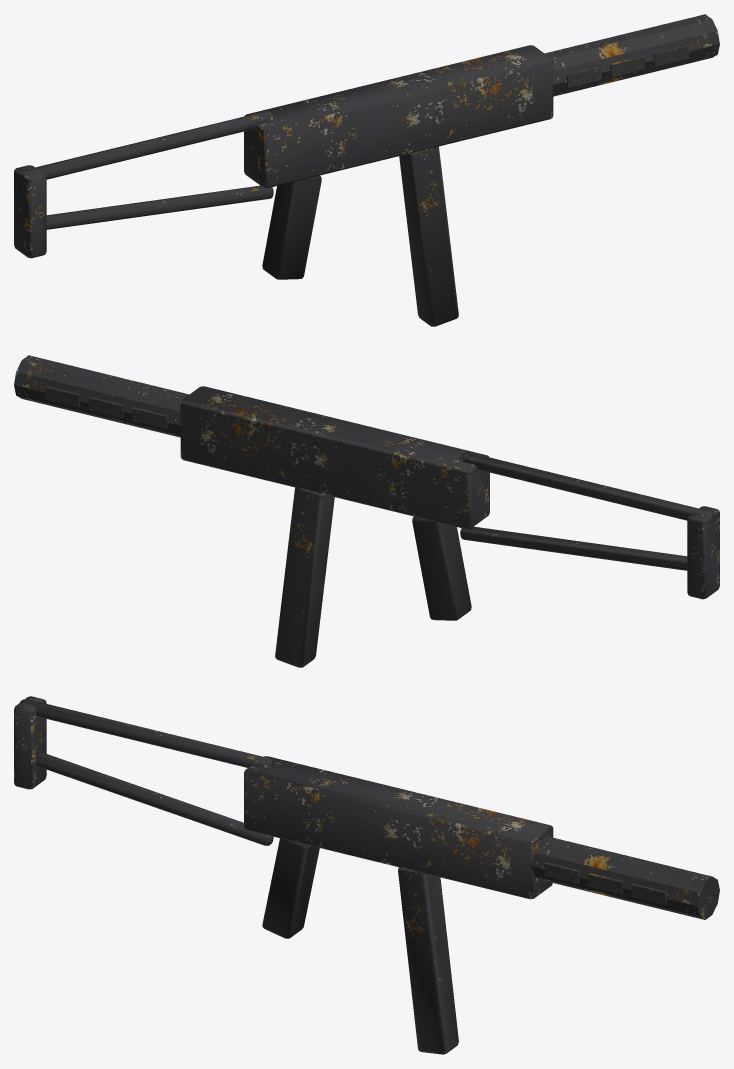
File: held_weapon_pps43.glb
3 renders of one model, top to bottom at view 1: azimuth 30°, elevation 25°; view 2: azimuth 150°, elevation 25°; view 3: azimuth 330°, elevation 25°, orthographic.
Parts seen in each view (by area): view 1: box, box.005, cyl, box.004, box.006, box.007, box.008, box.002, box.001, box.003; view 2: box, box.005, cyl, box.004, box.006, box.007, box.008, box.002, box.001, box.003; view 3: box, box.005, cyl, box.004, box.006, box.007, box.008.
Part boxes in pixels (x1,y1,x2,y2): box: (244,45,553,188); box.005: (399,146,458,326); cyl: (544,14,719,96); box.004: (262,175,321,279); box.006: (19,111,274,180); box.007: (46,185,273,229); box.008: (14,165,46,258); box.002: (610,55,645,77); box.001: (566,66,601,87); box.003: (653,45,688,66); box: (180,386,489,529); box.005: (275,487,334,667); cyl: (14,355,189,437); box.004: (412,516,471,620); box.006: (459,452,714,521); box.007: (460,526,687,570); box.008: (687,506,719,599); box.002: (88,396,123,418); box.001: (132,407,167,428); box.003: (45,386,80,407); box: (244,756,553,899); box.005: (398,867,458,1054); cyl: (529,836,719,919); box.004: (262,838,319,938); box.006: (20,699,274,768); box.007: (36,752,273,845); box.008: (14,696,46,789).
Size of the model in its own units: 0.71 by 0.246 by 0.042.
Materials: 3 (2 with a texture image).
